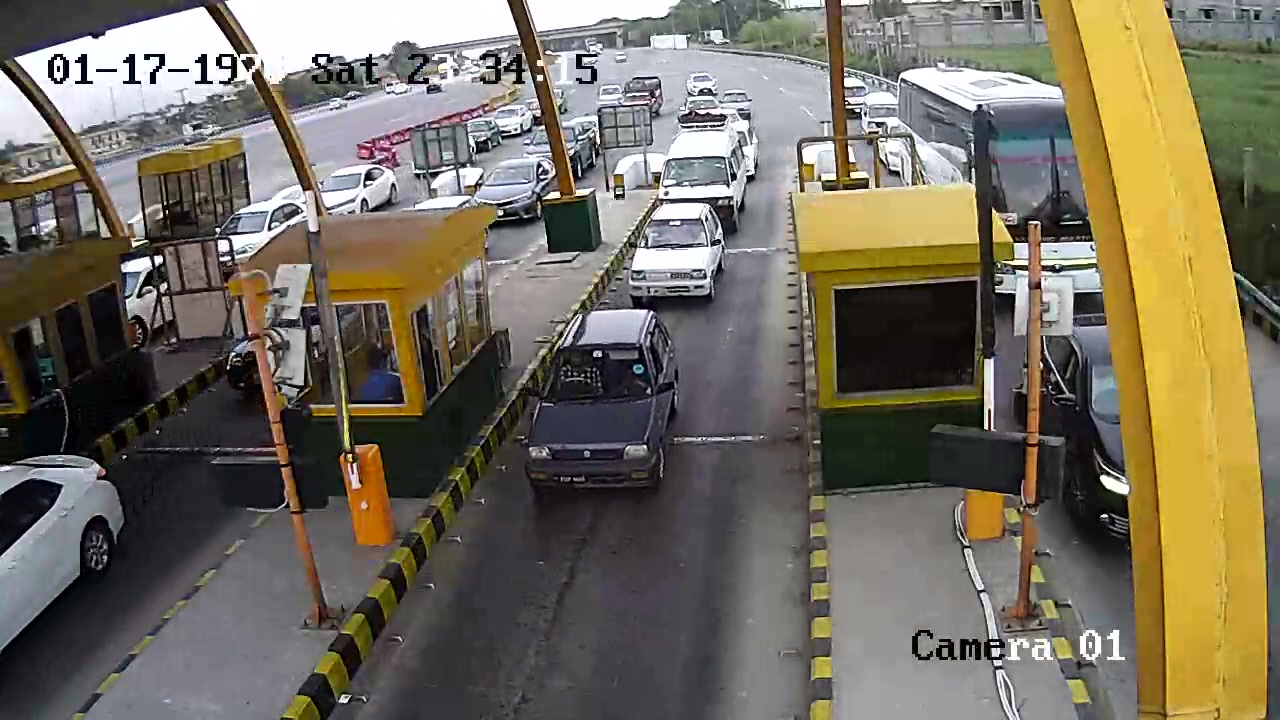F1: (516, 310, 686, 508)
